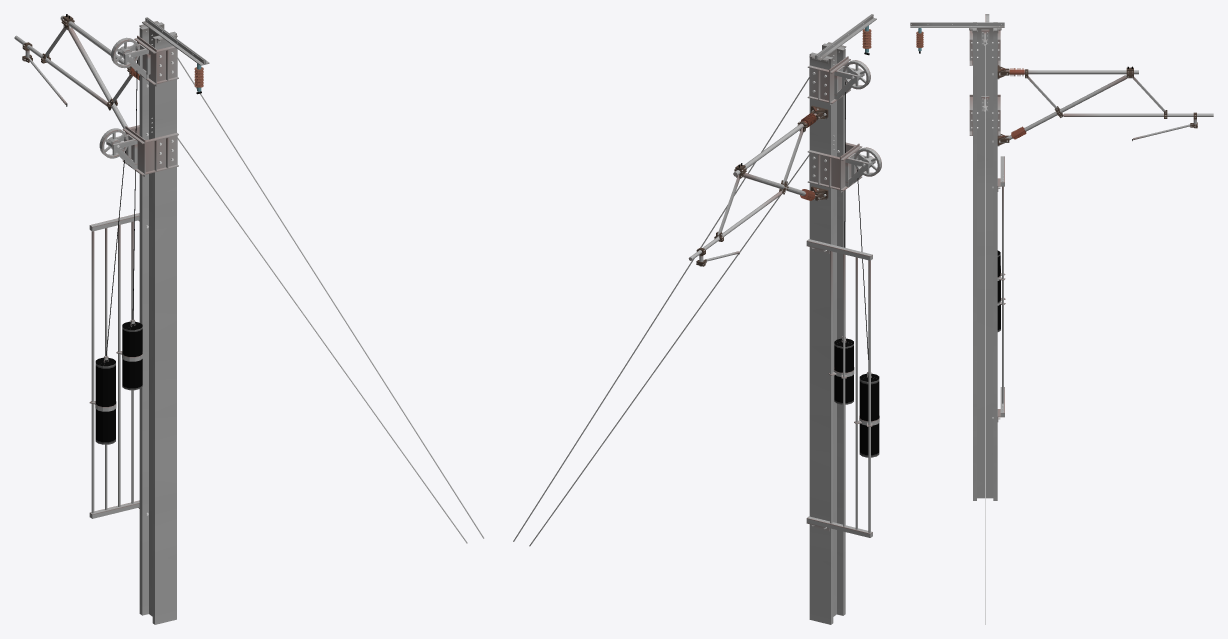
File: catenary_long_counterweight.obj
The picture shows the model from 3 angles, left to right: view 1: azimuth 30°, elevation 25°; view 2: azimuth 150°, elevation 25°; view 3: azimuth 270°, elevation 25°; orthographic projection. The views are drawn at different scales.
Parts seen in each view (by area): view 1: cuboid, cylinder, tube; view 2: cuboid, cylinder, tube; view 3: cuboid, cylinder.
Boxes of the visible parts, x1=… form: cuboid: x1=22, y1=14, x2=484, y2=624; cylinder: x1=14, y1=15, x2=203, y2=515; tube: x1=95, y1=37, x2=142, y2=411; cuboid: x1=513, y1=14, x2=876, y2=624; cylinder: x1=688, y1=16, x2=879, y2=532; tube: x1=834, y1=60, x2=881, y2=425; cuboid: x1=910, y1=22, x2=1197, y2=624; cylinder: x1=911, y1=24, x2=1213, y2=419.
Size of the model in its own units: 5.43 by 8.02 by 4.64.
Materials: 1 (1 with a texture image).
